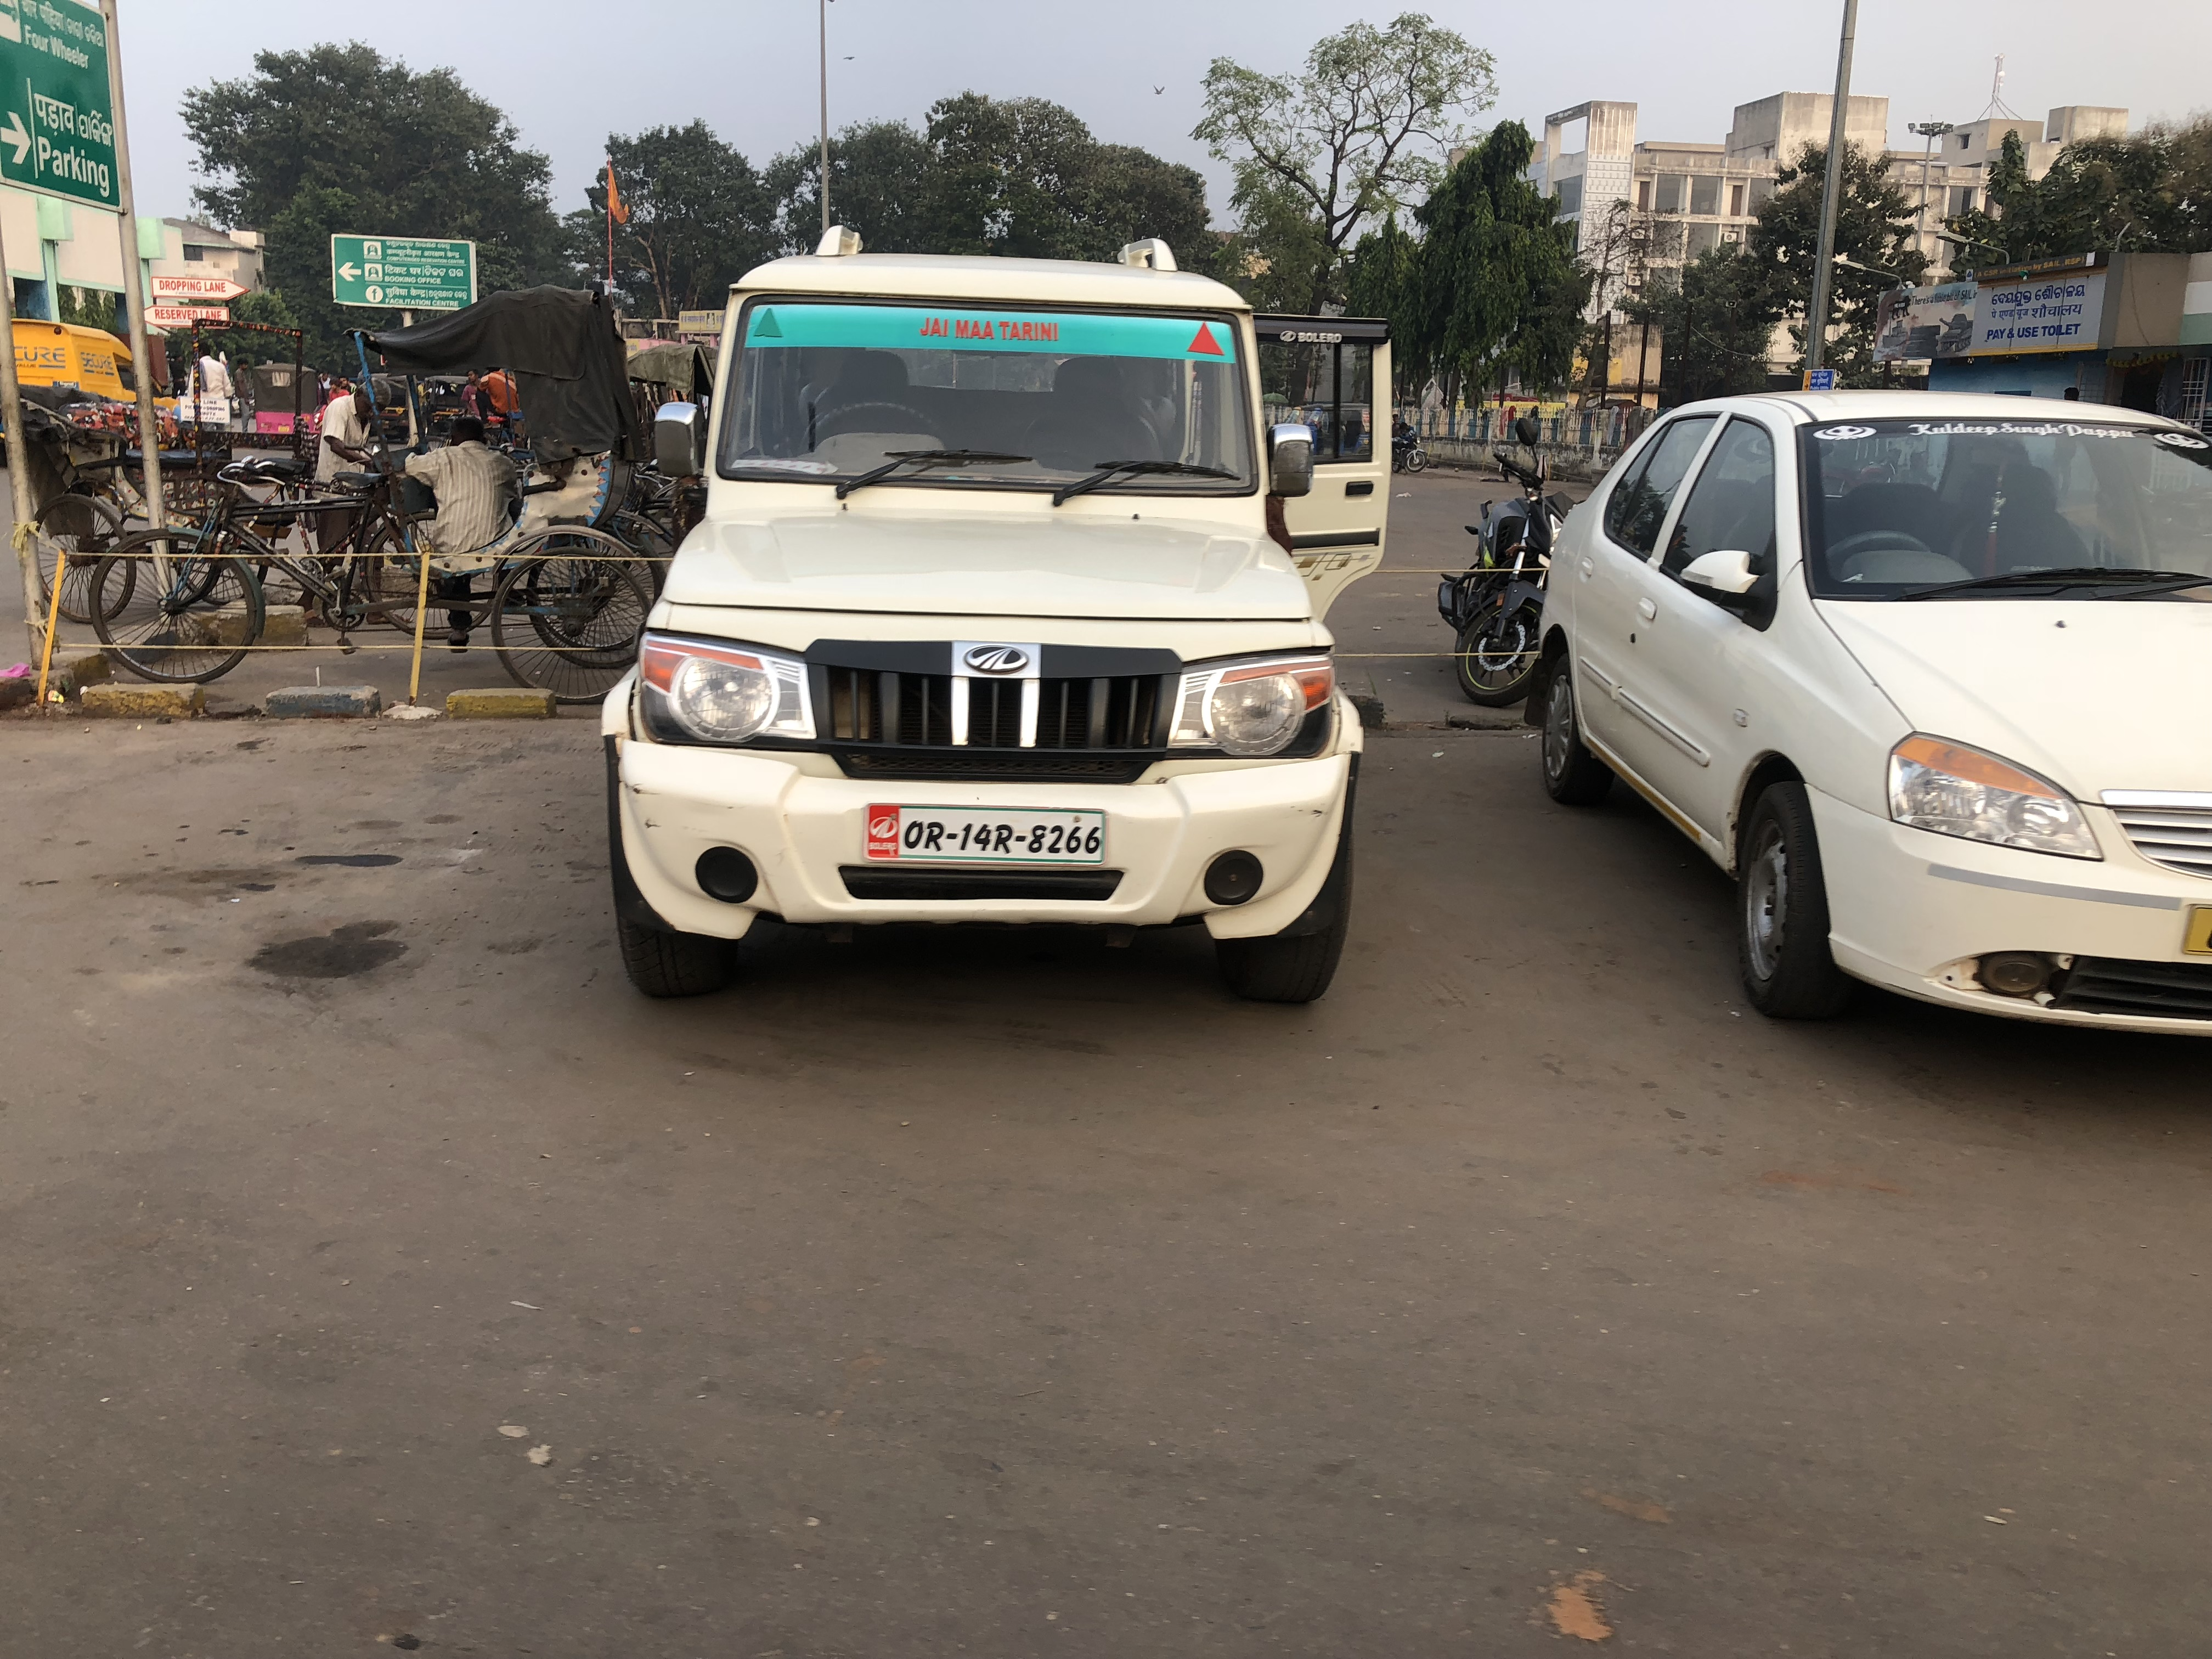licenseplate: (864, 795, 1132, 865)
